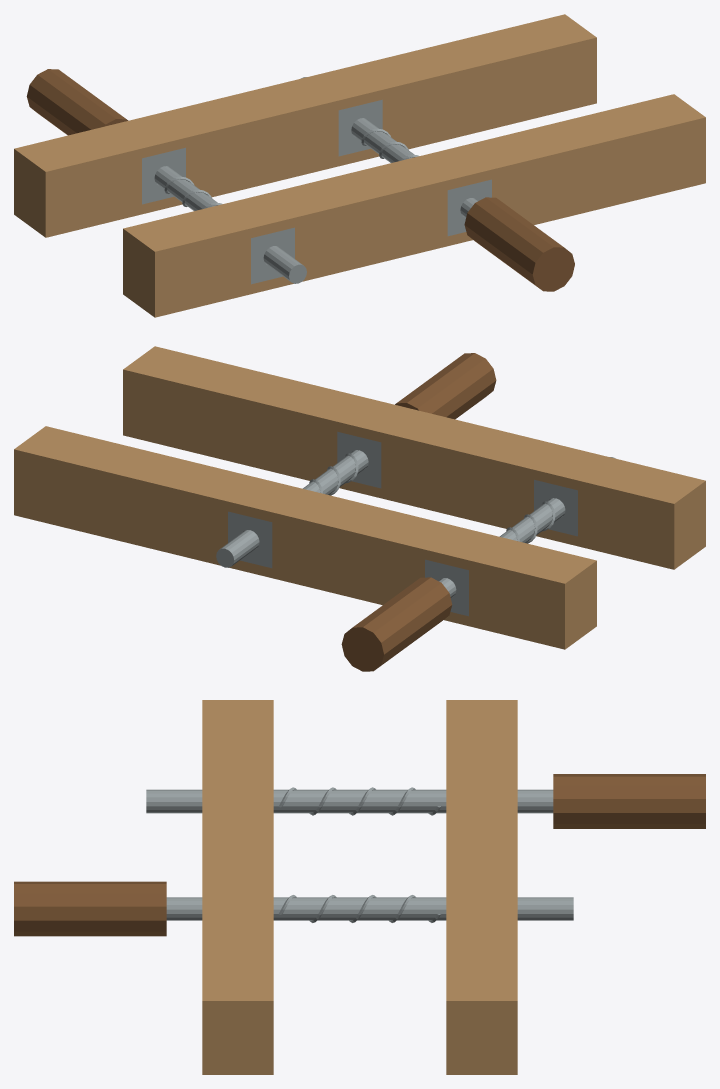
3 renders of one model, top to bottom at view 1: azimuth 30°, elevation 25°; view 2: azimuth 150°, elevation 25°; view 3: azimuth 270°, elevation 25°, orthographic. The views are drawn at different scales.
Parts seen in each view (by area): view 1: FarWholeTwoPocketTimberJaw, NearWholeTwoPocketTimberJaw, FrontWholeTimberHandGrip, RearWholeTimberHandGrip, RearWholeFixedSpindle, FarFrontWholeCapturedBoredBush, NearRearWholeCapturedBoredBush, FarRearWholeCapturedBoredBush, FrontWholeFixedSpindle, NearFrontWholeCapturedBoredBush; view 2: NearWholeTwoPocketTimberJaw, FarWholeTwoPocketTimberJaw, RearWholeTimberHandGrip, FrontWholeTimberHandGrip, FrontWholeFixedSpindle, FarFrontWholeCapturedBoredBush, NearFrontWholeCapturedBoredBush, NearRearWholeCapturedBoredBush, RearWholeFixedSpindle, FarRearWholeCapturedBoredBush; view 3: NearWholeTwoPocketTimberJaw, FarWholeTwoPocketTimberJaw, FrontWholeTimberHandGrip, RearWholeTimberHandGrip, RearWholeFixedSpindle, FrontWholeFixedSpindle, FrontWholeFixedHelicalRidge.
Boxes of the visible parts, x1=… form: FarWholeTwoPocketTimberJaw: x1=14, y1=14, x2=596, y2=237; NearWholeTwoPocketTimberJaw: x1=123, y1=94, x2=705, y2=317; FrontWholeTimberHandGrip: x1=464, y1=197, x2=574, y2=291; RearWholeTimberHandGrip: x1=26, y1=69, x2=128, y2=135; RearWholeFixedSpindle: x1=154, y1=166, x2=306, y2=283; FarFrontWholeCapturedBoredBush: x1=338, y1=99, x2=382, y2=156; NearRearWholeCapturedBoredBush: x1=251, y1=227, x2=294, y2=284; FarRearWholeCapturedBoredBush: x1=142, y1=147, x2=185, y2=204; FrontWholeFixedSpindle: x1=301, y1=77, x2=477, y2=217; NearFrontWholeCapturedBoredBush: x1=447, y1=179, x2=491, y2=236; NearWholeTwoPocketTimberJaw: x1=123, y1=346, x2=705, y2=569; FarWholeTwoPocketTimberJaw: x1=14, y1=426, x2=596, y2=649; RearWholeTimberHandGrip: x1=341, y1=577, x2=452, y2=671; FrontWholeTimberHandGrip: x1=395, y1=353, x2=496, y2=419; FrontWholeFixedSpindle: x1=216, y1=450, x2=368, y2=567; FarFrontWholeCapturedBoredBush: x1=228, y1=511, x2=272, y2=568; NearFrontWholeCapturedBoredBush: x1=337, y1=431, x2=381, y2=488; NearRearWholeCapturedBoredBush: x1=534, y1=479, x2=577, y2=536; RearWholeFixedSpindle: x1=439, y1=457, x2=615, y2=597; FarRearWholeCapturedBoredBush: x1=425, y1=559, x2=468, y2=616; NearWholeTwoPocketTimberJaw: x1=202, y1=700, x2=273, y2=1074; FarWholeTwoPocketTimberJaw: x1=446, y1=700, x2=517, y2=1074; FrontWholeTimberHandGrip: x1=14, y1=881, x2=166, y2=936; RearWholeTimberHandGrip: x1=553, y1=774, x2=705, y2=828; RearWholeFixedSpindle: x1=146, y1=789, x2=553, y2=813; FrontWholeFixedSpindle: x1=166, y1=897, x2=573, y2=920; FrontWholeFixedHelicalRidge: x1=279, y1=895, x2=441, y2=922.
Bounding box in the file's own units: 0.7 × 0.08 × 0.68.
